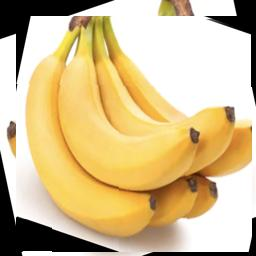Banana Fresh: (17, 17, 253, 253)
